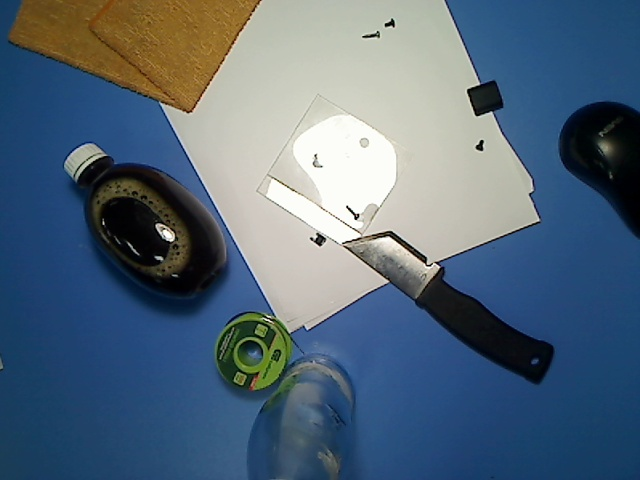plast_bottle: (64, 139, 230, 308)
